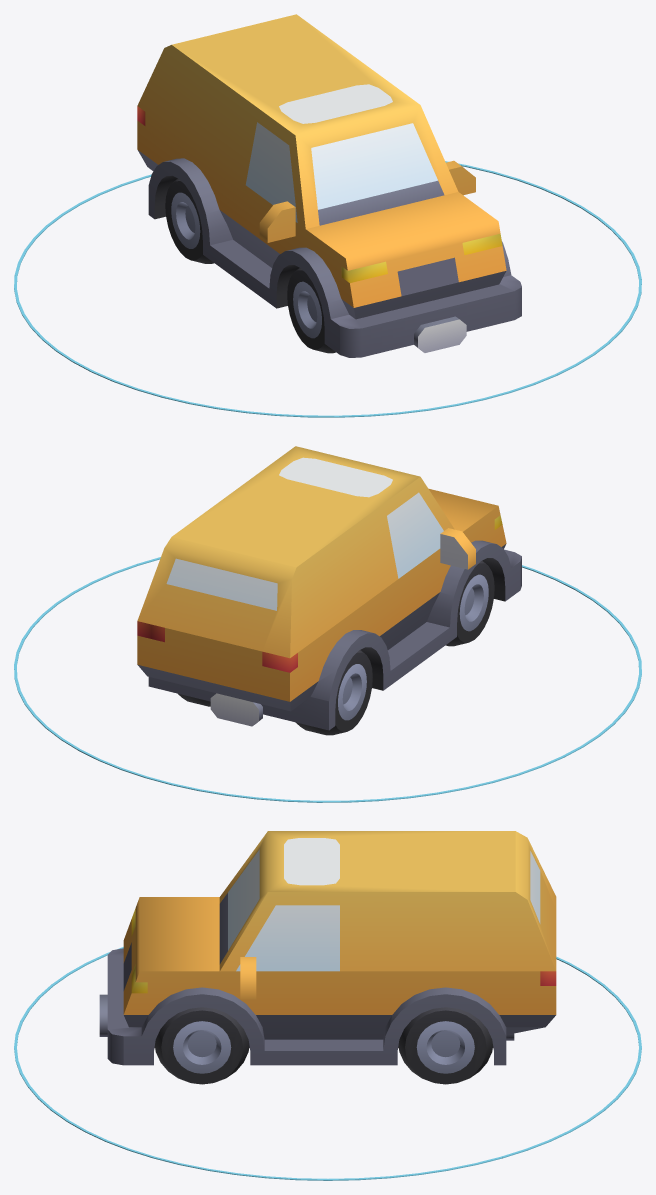
File: suv-luxury.glb
3 renders of one model, top to bottom at view 1: azimuth 30°, elevation 25°; view 2: azimuth 150°, elevation 25°; view 3: azimuth 270°, elevation 25°, orthographic.
Visible parts, largest first — view 1: body, wheel-front-right, wheel-back-right; view 2: body, wheel-back-right, wheel-front-right; view 3: body, wheel-front-left, wheel-back-left.
Part boxes in pixels (x1,y1,x2,y2): body: (137,14,521,357); wheel-front-right: (287,267,335,353); wheel-back-right: (165,178,213,263); body: (137,446,521,730); wheel-back-right: (295,650,372,735); wheel-front-right: (445,560,494,646); body: (99,831,556,1065); wheel-front-left: (155,1007,249,1084); wheel-back-left: (398,1007,492,1084).
Bounding box in the file's own units: 3.92 × 1.3 × 3.92.
Materials: 2 (1 with a texture image).
